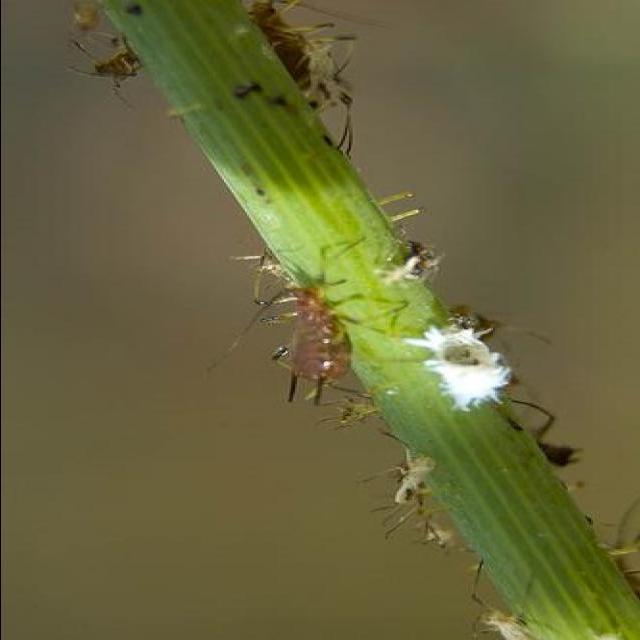aphid: (243, 261, 374, 422), (236, 0, 365, 133), (56, 6, 140, 106), (376, 441, 442, 531)
